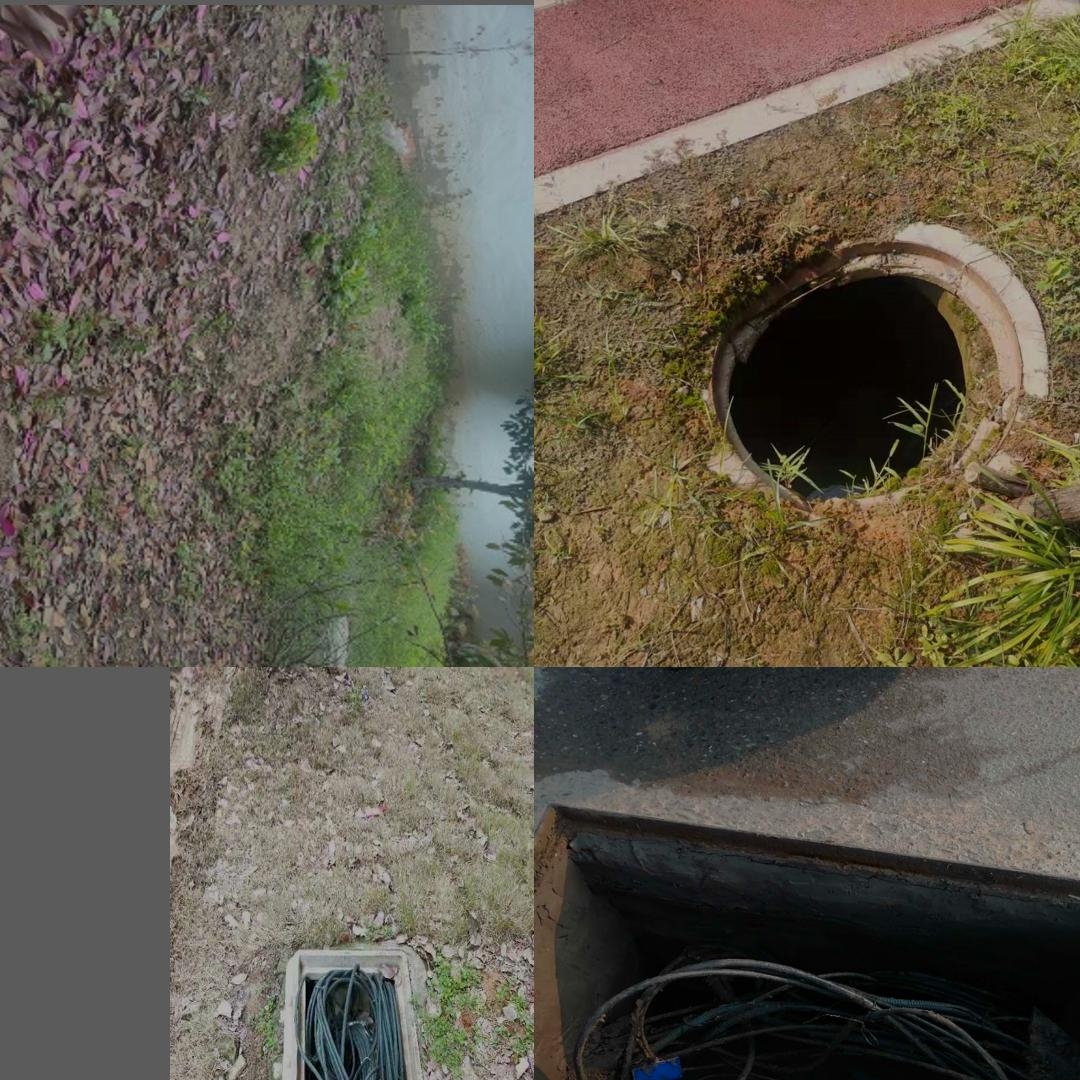lose: (535, 809, 1080, 1080), (699, 219, 1049, 507), (268, 925, 443, 1080)
